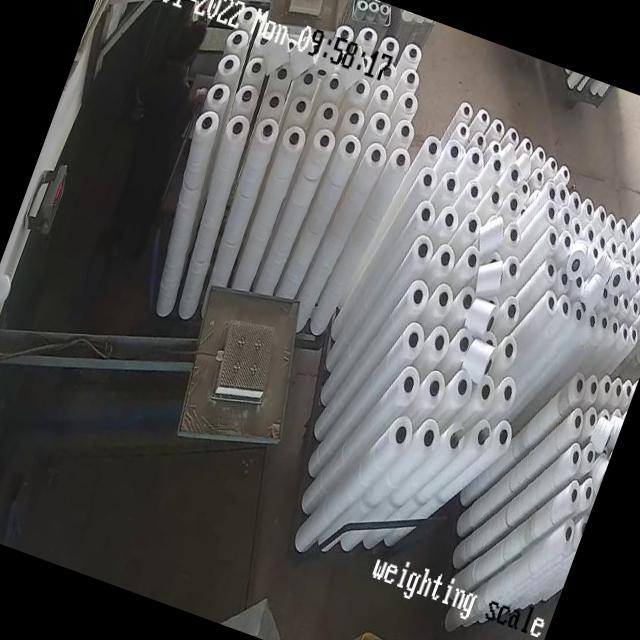person: (90, 16, 231, 257)
